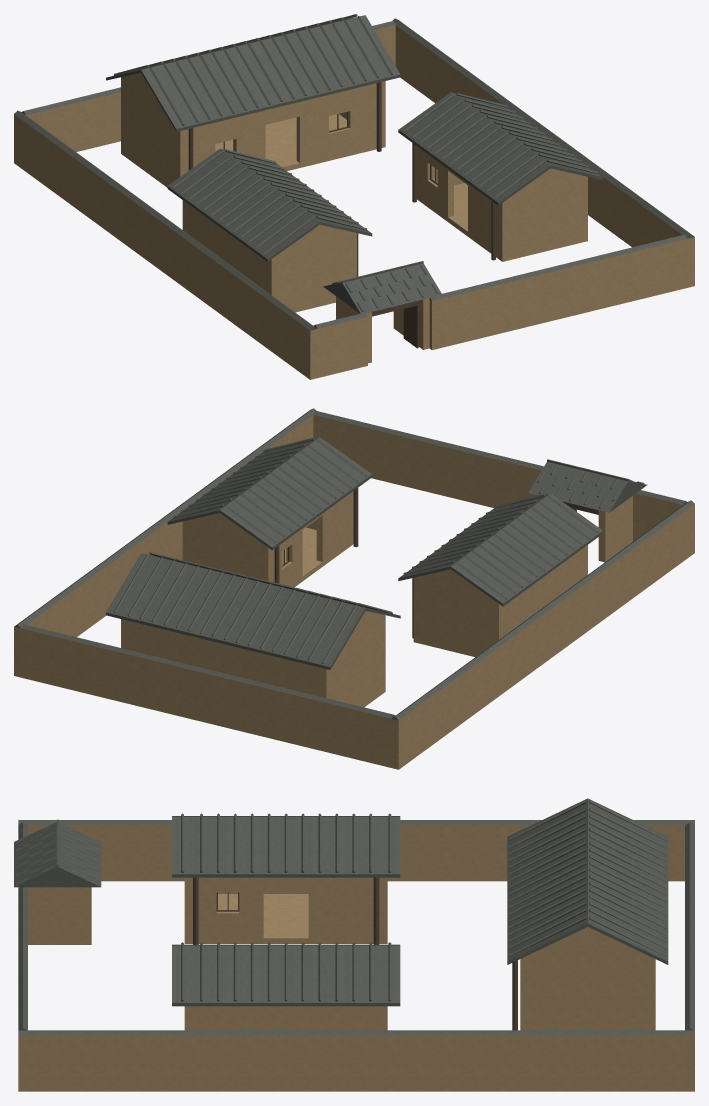
The model's file is opposed_rooms-LOD1.glb.
The picture shows the model from 3 angles, top to bottom: view 1: azimuth 30°, elevation 25°; view 2: azimuth 150°, elevation 25°; view 3: azimuth 270°, elevation 25°; orthographic projection. The views are drawn at different scales.
Visible parts, largest first — view 1: opposed_rooms_earth, opposed_rooms_tile, opposed_rooms_timber; view 2: opposed_rooms_earth, opposed_rooms_tile, opposed_rooms_timber; view 3: opposed_rooms_earth, opposed_rooms_tile, opposed_rooms_timber.
Boxes of the visible parts, <box> form: opposed_rooms_earth: <box>14,25,694,379</box>; opposed_rooms_tile: <box>14,14,694,330</box>; opposed_rooms_timber: <box>188,82,495,348</box>; opposed_rooms_earth: <box>14,415,694,769</box>; opposed_rooms_tile: <box>14,408,694,720</box>; opposed_rooms_timber: <box>274,488,598,638</box>; opposed_rooms_earth: <box>18,825,694,1091</box>; opposed_rooms_tile: <box>14,798,694,1035</box>; opposed_rooms_timber: <box>193,877,517,1030</box>.
Size of the model in its own units: 18 by 4.93 by 24.15.
3 materials, 3 textured.
